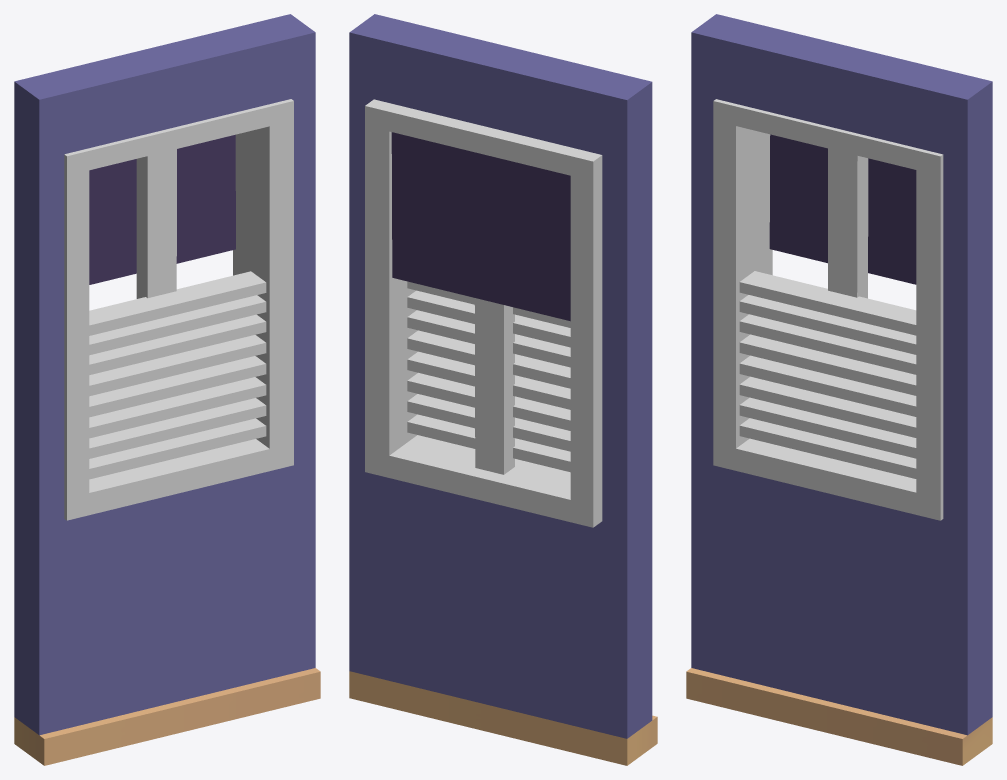
File: Fenêtre 9 stores.fbx
3 views of the same model, side by side, from view 1: azimuth 30°, elevation 25°; view 2: azimuth 150°, elevation 25°; view 3: azimuth 330°, elevation 25° (orthographic).
Visible parts, largest first — view 1: Cube, Cube.001, Plane; view 2: Cube, Plane, Cube.001; view 3: Cube, Cube.001, Plane.
Boxes of the visible parts, x1,y1,x2,y2 form: Cube: (14,14,320,765); Cube.001: (89,271,266,479); Plane: (89,134,235,284); Cube: (349,14,657,765); Plane: (391,132,570,321); Cube.001: (407,281,570,472); Cube: (686,14,992,765); Cube.001: (739,271,916,478); Plane: (769,134,916,284).
Size of the model in its own units: 389 by 891 by 95.26.
